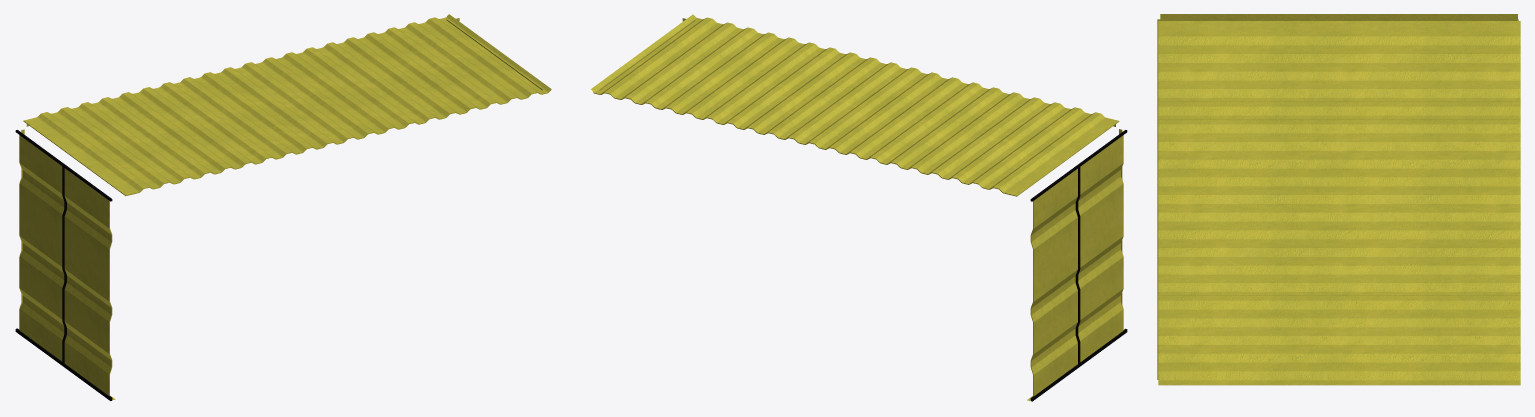
Rendered from rear-top-sprayfoam.glb.
3 renders of one model, left to right at view 1: azimuth 30°, elevation 25°; view 2: azimuth 150°, elevation 25°; view 3: azimuth 270°, elevation 25°, orthographic. The views are drawn at different scales.
Parts seen in each view (by area): view 1: 20FT HC Sprayfoam_Ceiling, 20FT HC Sprayfoam_RearTop; view 2: 20FT HC Sprayfoam_Ceiling, 20FT HC Sprayfoam_RearTop; view 3: 20FT HC Sprayfoam_Ceiling.
Part boxes in pixels (x1,y1,x2,y2): 20FT HC Sprayfoam_Ceiling: (19,14,551,399); 20FT HC Sprayfoam_RearTop: (15,130,112,400); 20FT HC Sprayfoam_Ceiling: (591,14,1123,400); 20FT HC Sprayfoam_RearTop: (1030,130,1127,401); 20FT HC Sprayfoam_Ceiling: (1157,14,1520,385).
Size of the model in its own units: 5.97 by 2.68 by 2.37.
Materials: 2 (1 with a texture image).
